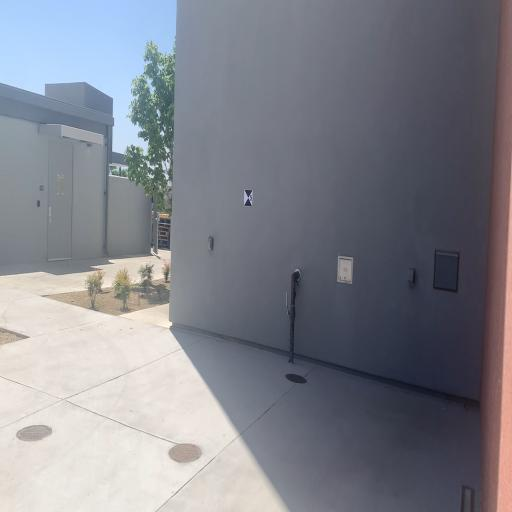target5: (244, 189, 253, 207)
